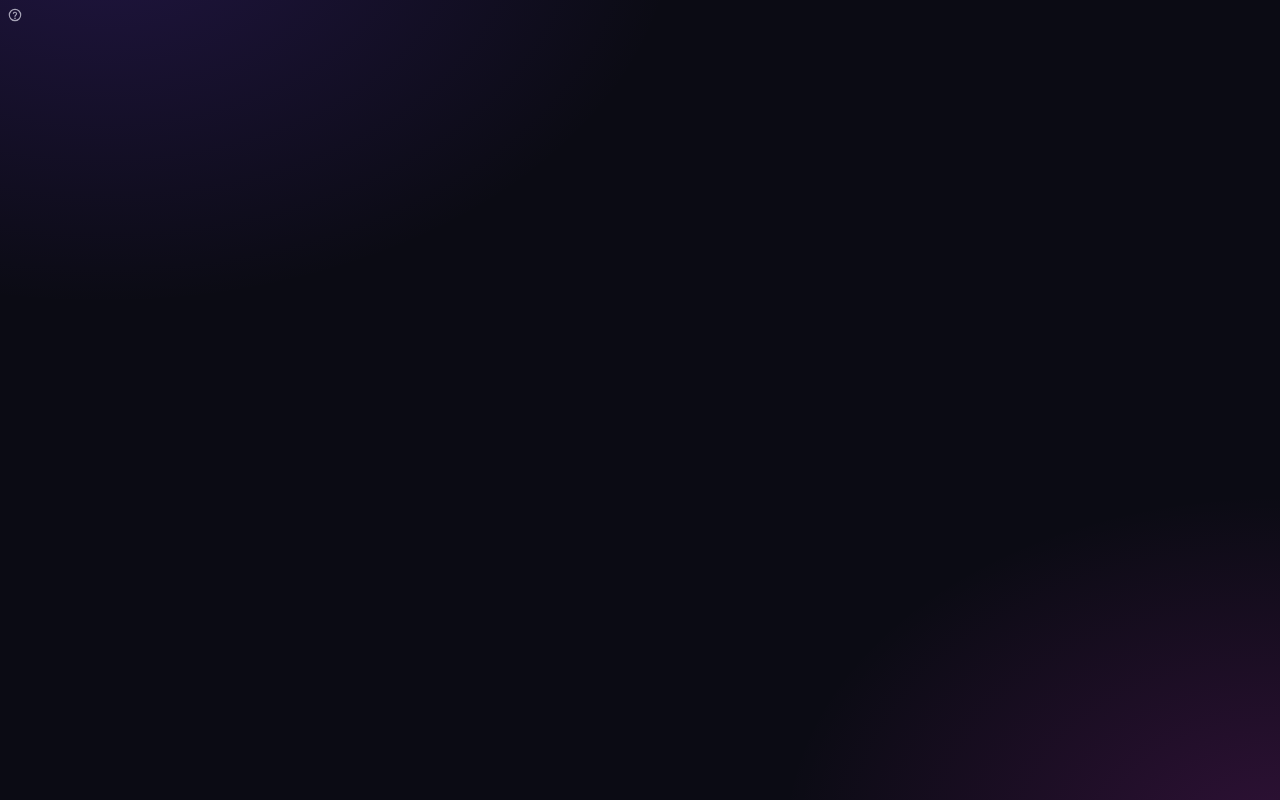
Test: HelpButton › closes on a click outside but not on a click inside
This screenshot has width=1280, height=800.
Click the button named "Ayuda" at (15, 15), box left=0, top=0, right=30, bottom=30
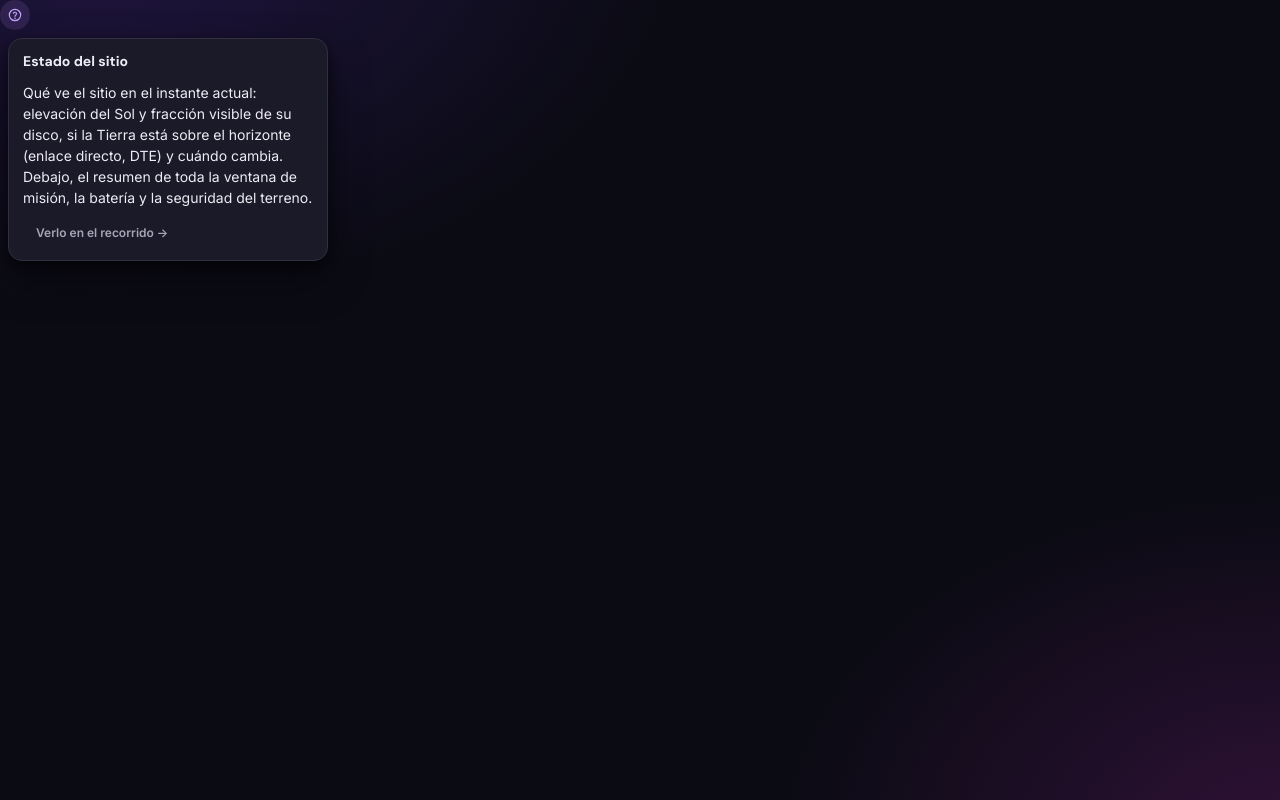
Press the mouse on the dialog at (168, 150), box left=8, top=38, right=328, bottom=261
Result: the dialog is shown at left=8, top=38, right=328, bottom=261
Press the mouse on the element that starts with "Estado del sitio" at (640, 400), box left=0, top=0, right=1279, bottom=799
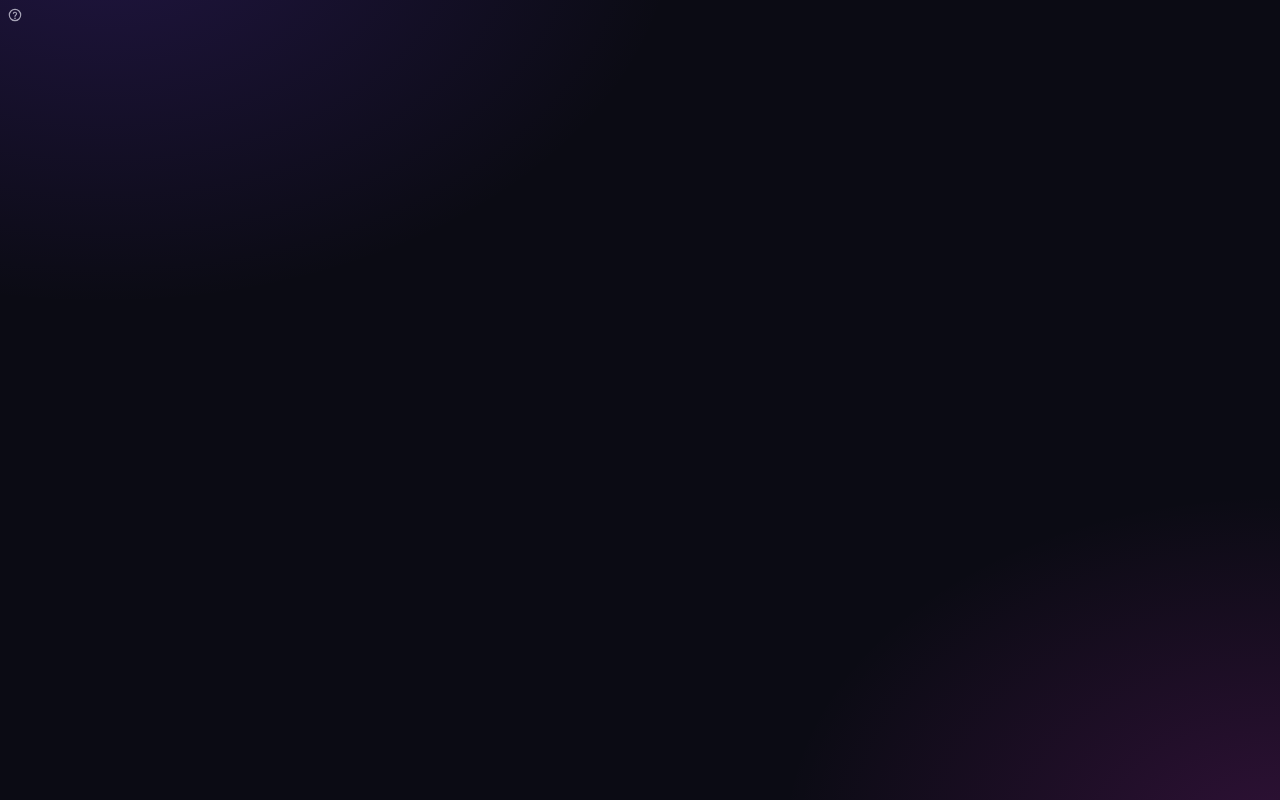
Result: the dialog is gone
